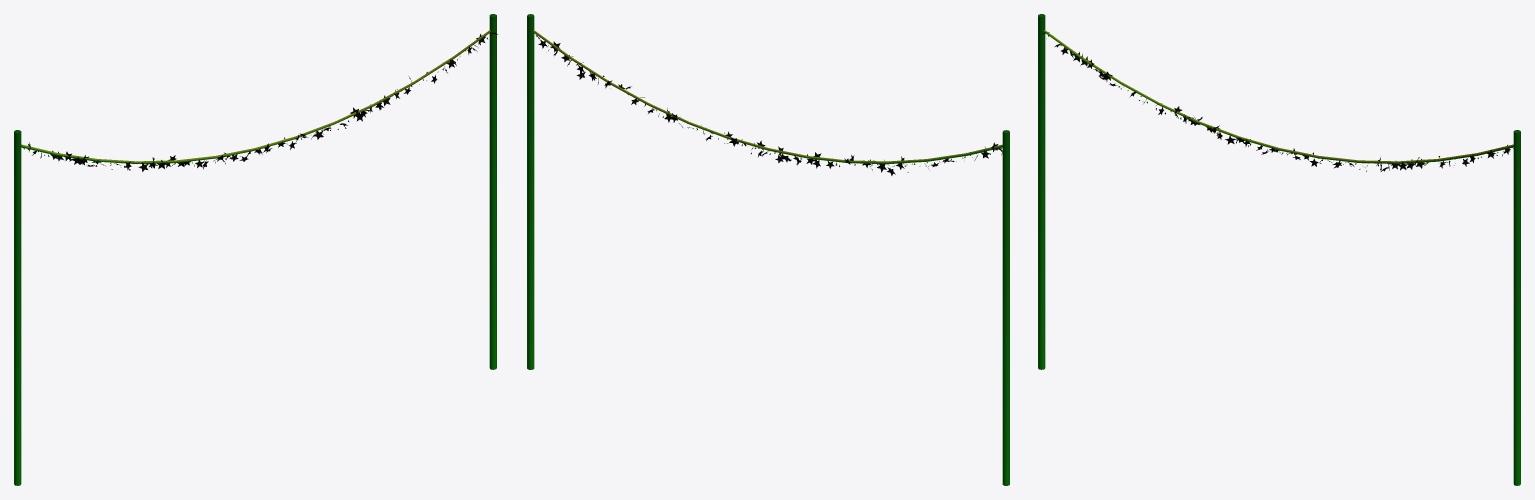
Rendered from garland_string.glb.
3 views of the same model, side by side, from view 1: azimuth 30°, elevation 25°; view 2: azimuth 150°, elevation 25°; view 3: azimuth 330°, elevation 25° (orthographic).
Visible parts, largest first — view 1: garland_string; view 2: garland_string; view 3: garland_string.
Part boxes in pixels (x1,y1,x2,y2): garland_string: (14, 14, 497, 485); garland_string: (527, 14, 1009, 485); garland_string: (1038, 14, 1520, 485).
Size of what is drawn, in the model's own units: 4.46 by 3.12 by 0.1919.
